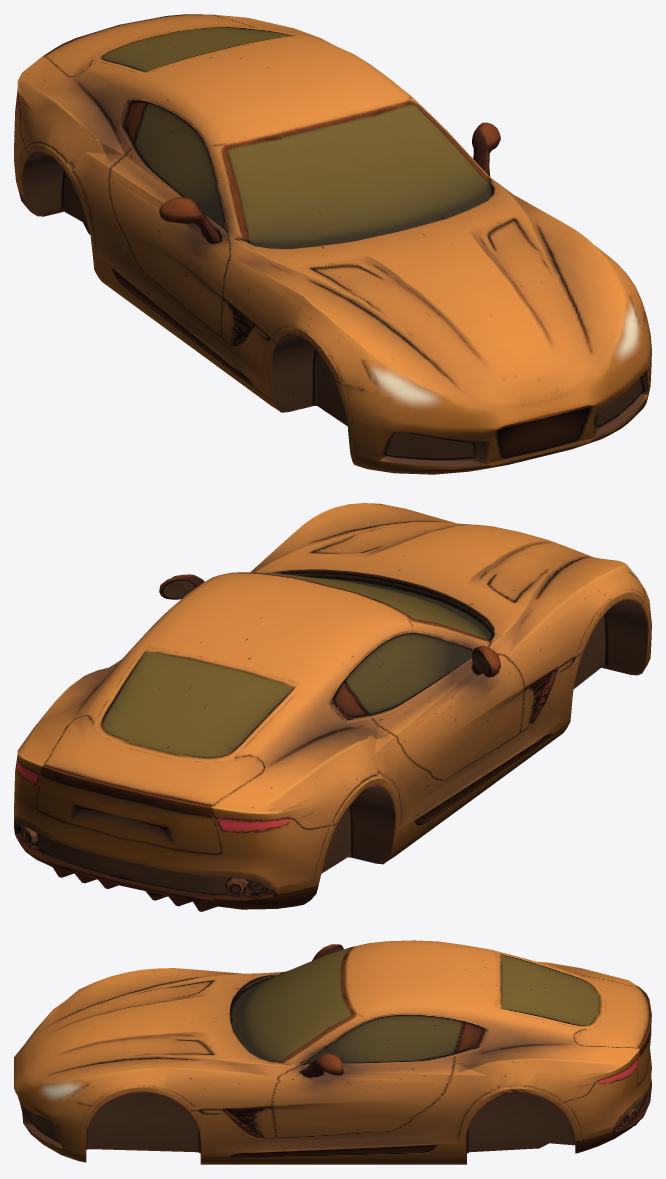
Rendered from Car4.glb.
3 renders of one model, top to bottom at view 1: azimuth 30°, elevation 25°; view 2: azimuth 150°, elevation 25°; view 3: azimuth 270°, elevation 25°, orthographic. The views are drawn at different scales.
Visible parts, largest first — view 1: part_0000.001; view 2: part_0000.001; view 3: part_0000.001.
Part boxes in pixels (<box>): part_0000.001: <box>14,14,651,474</box>; part_0000.001: <box>14,503,651,911</box>; part_0000.001: <box>14,940,651,1164</box>.
Bounding box in the file's own units: 2.04 × 1.15 × 4.49.
1 material, 1 textured.
